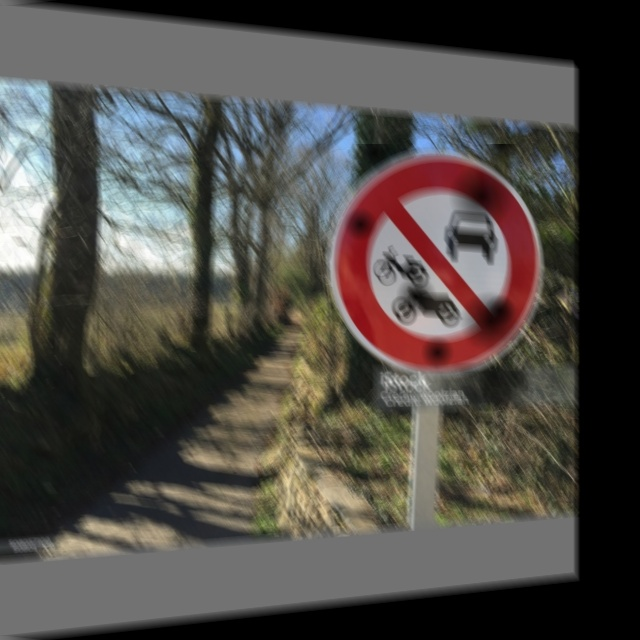All_Motor_Vehicles_Prohibited: (330, 144, 542, 370)
